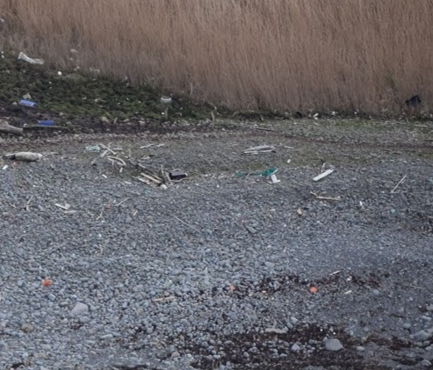scattered_barrel: (233, 138, 343, 188), (5, 46, 63, 131)
white_in_green: (154, 154, 206, 197), (290, 269, 333, 311)
